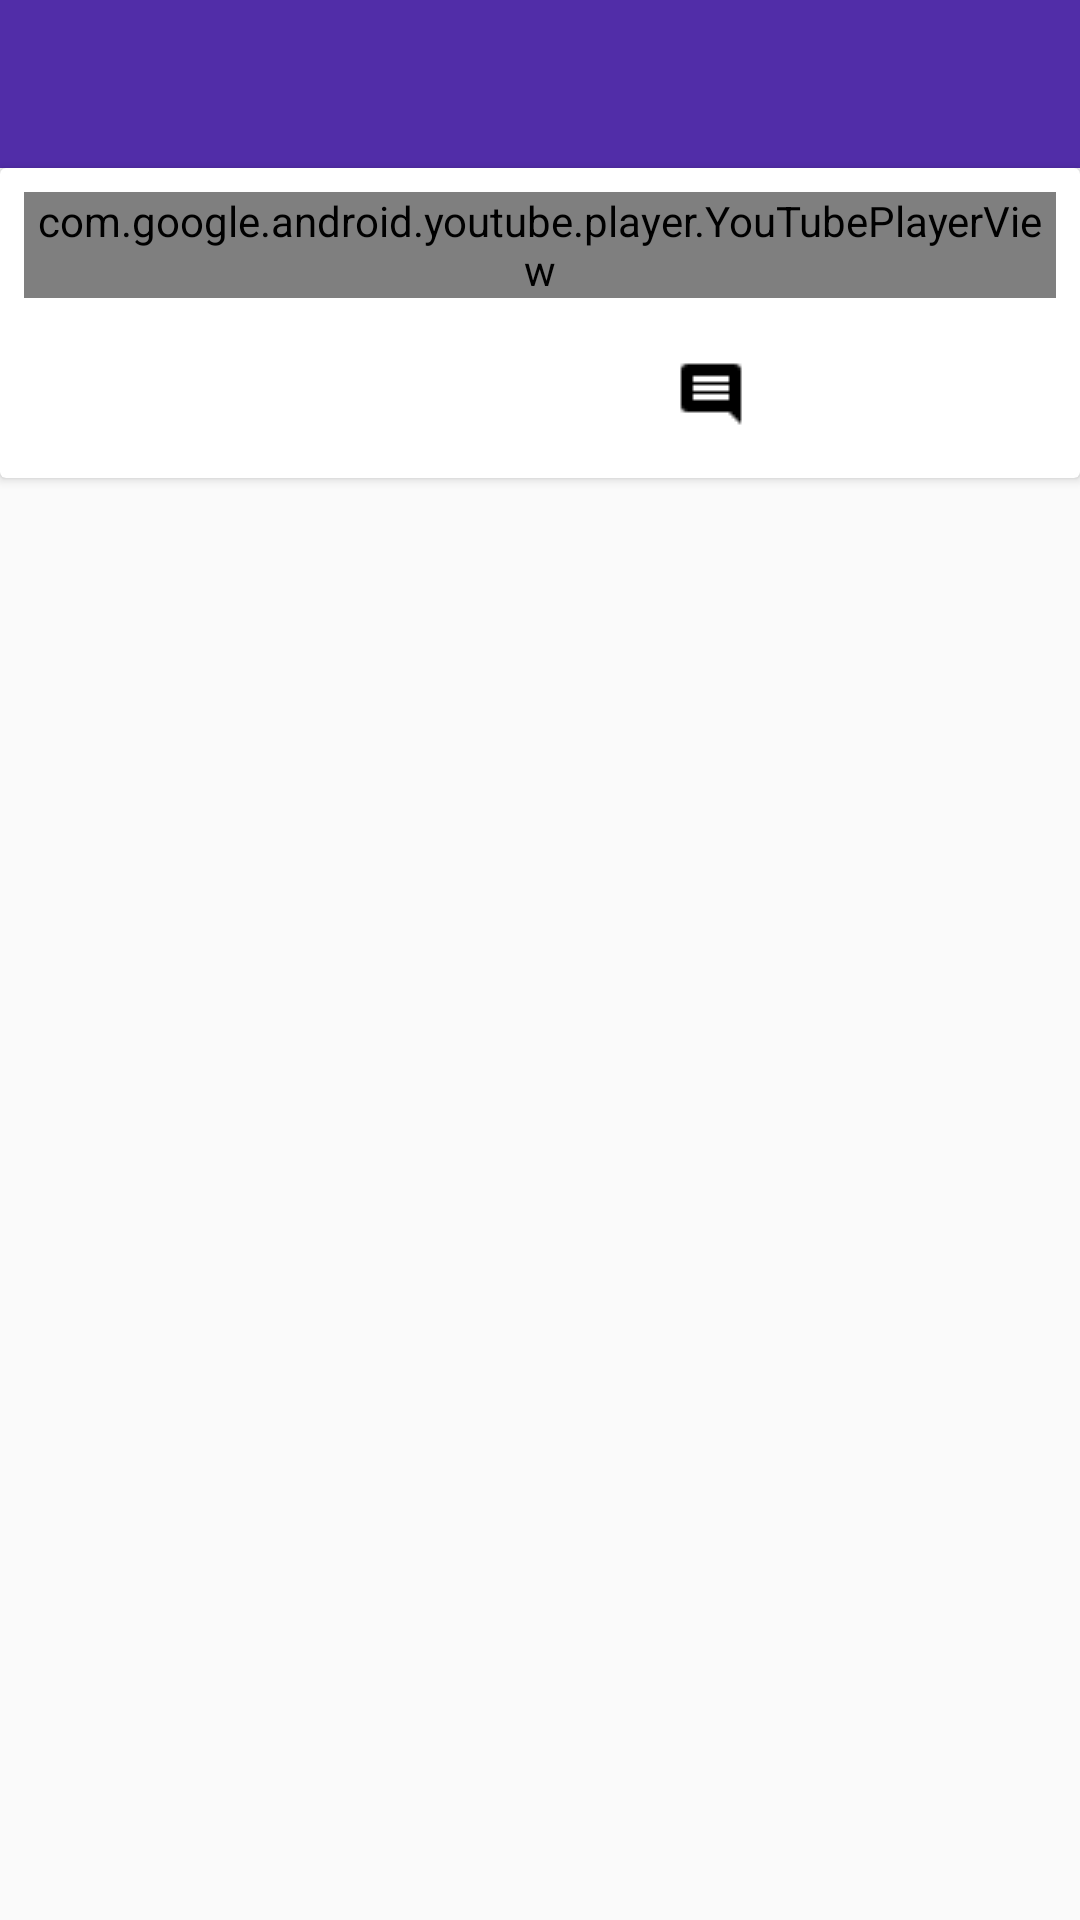

Icons on this 1080 × 1920 Android screen, each with its box as [x1,y1,x2,y2]:
insert comment: [680,363,742,425]
